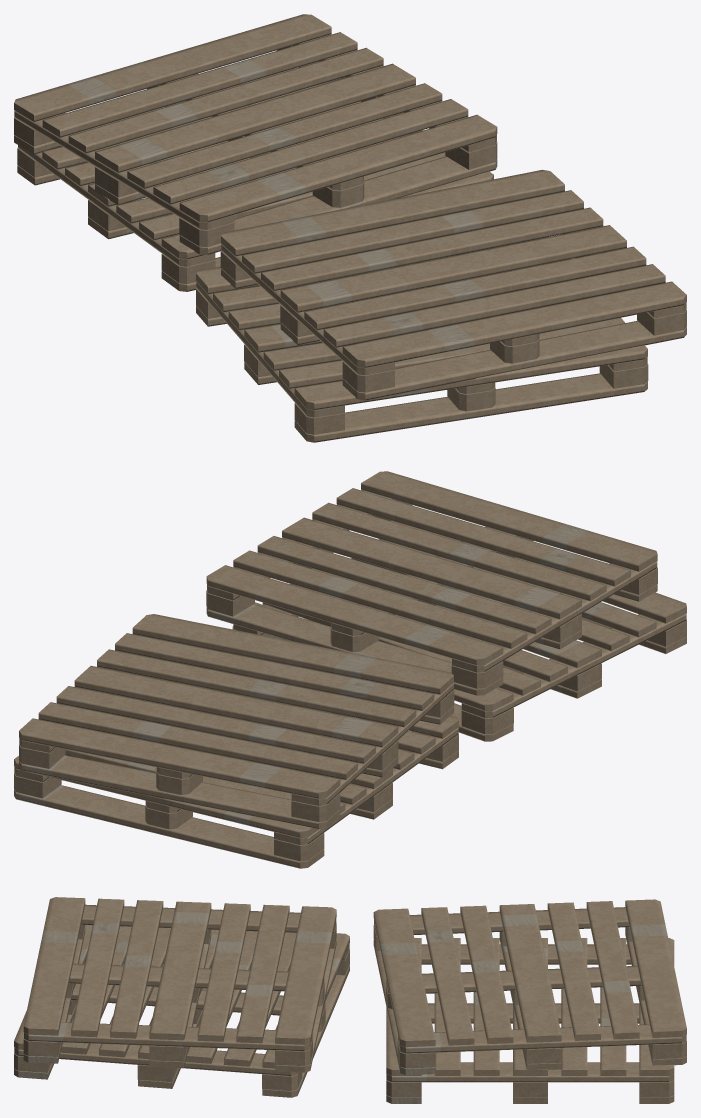
Rendered from PalletsTwo.fbx.
3 renders of one model, top to bottom at view 1: azimuth 30°, elevation 25°; view 2: azimuth 150°, elevation 25°; view 3: azimuth 270°, elevation 25°, orthographic. The views are drawn at different scales.
Visible parts, largest first — view 1: MAP_Warehouse_Main|SM_MERGED_SM_Pallet40|Dupli|3219; view 2: MAP_Warehouse_Main|SM_MERGED_SM_Pallet40|Dupli|3219; view 3: MAP_Warehouse_Main|SM_MERGED_SM_Pallet40|Dupli|3219.
Boxes of the visible parts, x1,y1,x2,y2 form: MAP_Warehouse_Main|SM_MERGED_SM_Pallet40|Dupli|3219: (14,14,686,442); MAP_Warehouse_Main|SM_MERGED_SM_Pallet40|Dupli|3219: (14,471,686,868); MAP_Warehouse_Main|SM_MERGED_SM_Pallet40|Dupli|3219: (14,897,686,1103).
Bounding box in the file's own units: 146 × 28.53 × 257.
1 material, 1 textured.
